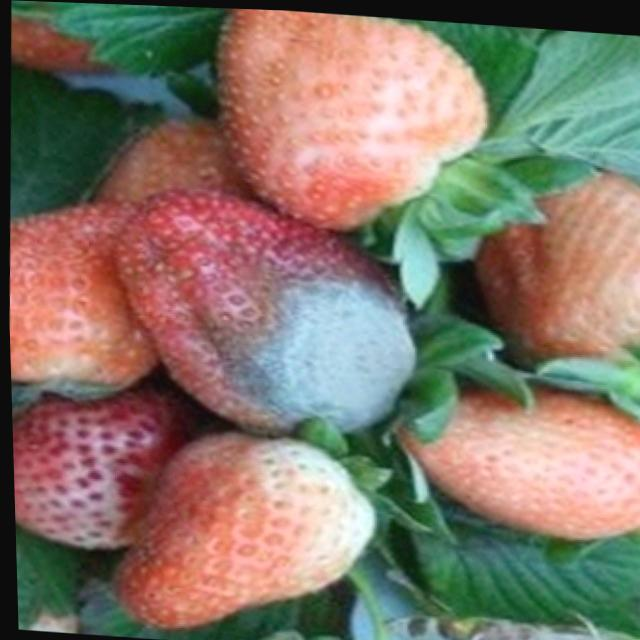Gray Mold: (117, 185, 415, 435)
